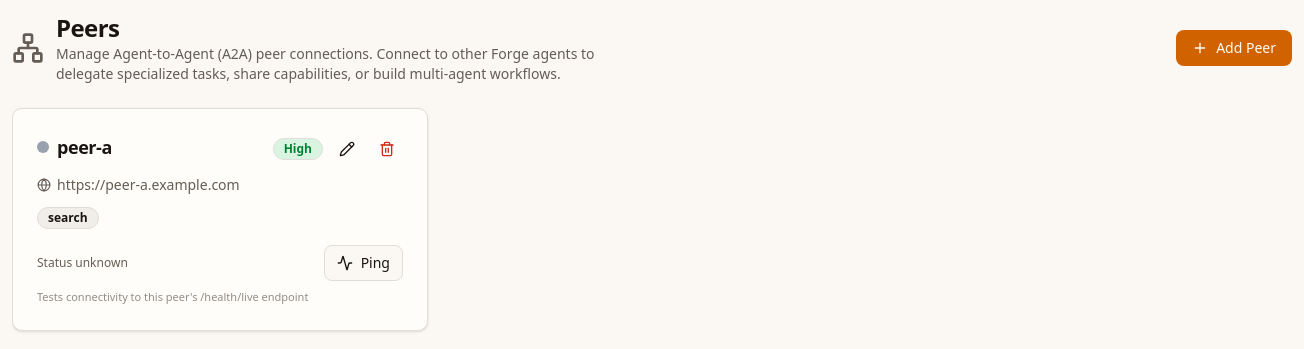
PeersPage ping status › shows a peer as reachable when the backend returns status: 'reachable' (AdminPeerStatus), not 'ok'
The width and height of the screenshot is (1304, 349).
Expected: the heading "peer-a" is shown, [57,133,112,161]
Click the button "Ping" at (363,263), box [324,245,403,281]
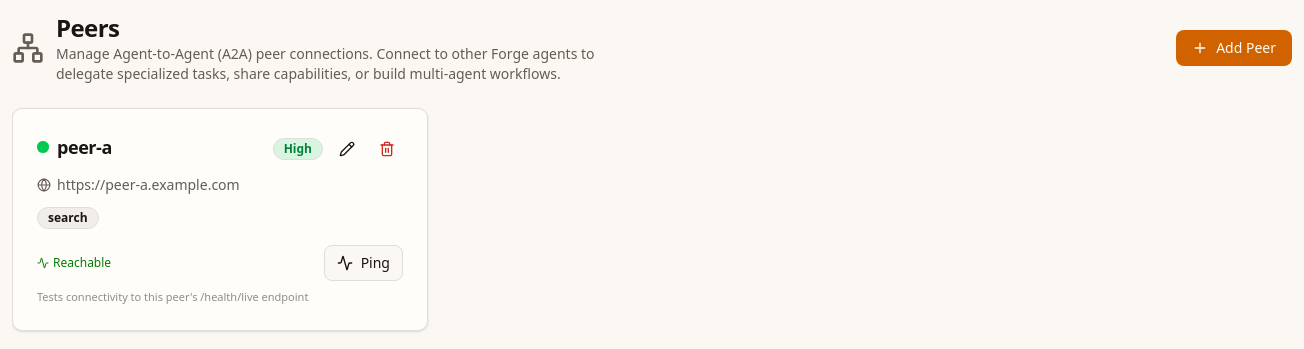
Expected: the text "Status unknown" is gone
